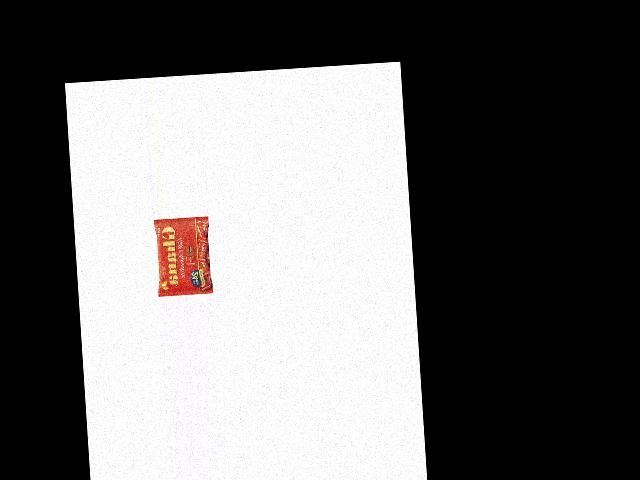chocolate: (155, 217, 215, 297)
